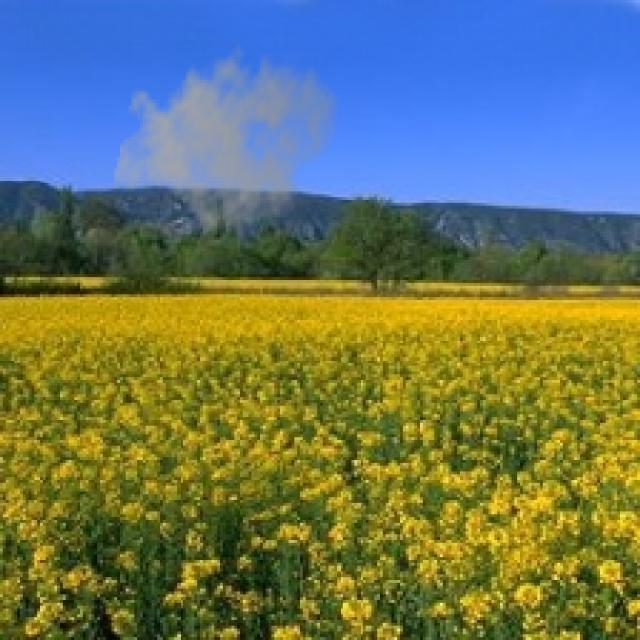Smoke: (111, 34, 340, 243)
